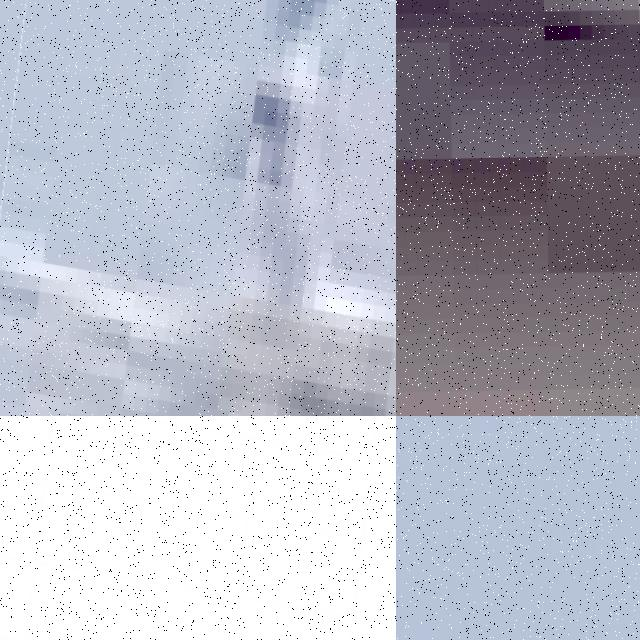0: (0, 0, 396, 416)
drone: (0, 416, 396, 640)
